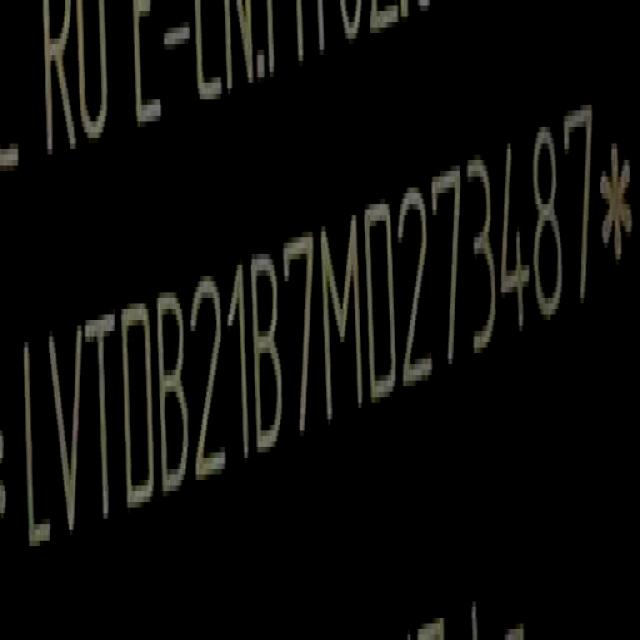1: (226, 260, 252, 469)
2: (399, 174, 436, 394), (193, 272, 231, 485)
3: (465, 146, 496, 366)
4: (499, 133, 534, 343)
7: (284, 230, 320, 443), (432, 159, 466, 378), (566, 104, 596, 320)
8: (533, 117, 564, 328)
B: (250, 250, 286, 459), (156, 290, 190, 500)
D: (121, 298, 158, 512), (363, 193, 399, 405)
L: (16, 328, 52, 558)
M: (319, 213, 364, 423)
T: (86, 302, 121, 528)
V: (47, 316, 84, 548)
